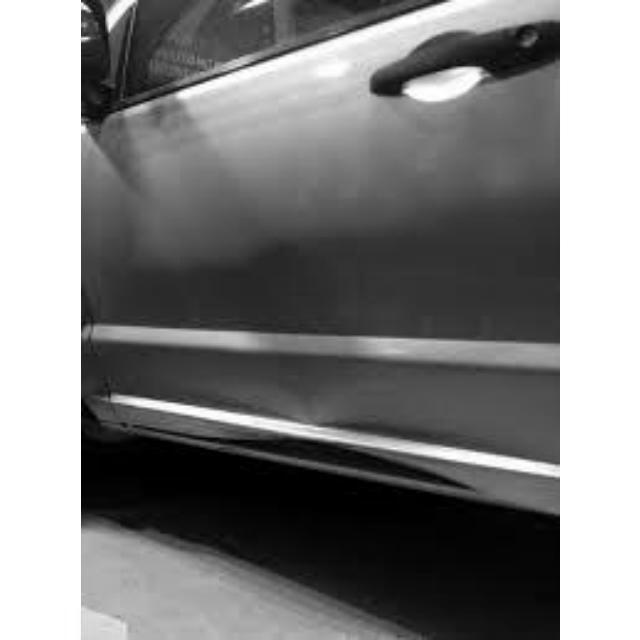Runningboard-Damage: (115, 394, 495, 507)
